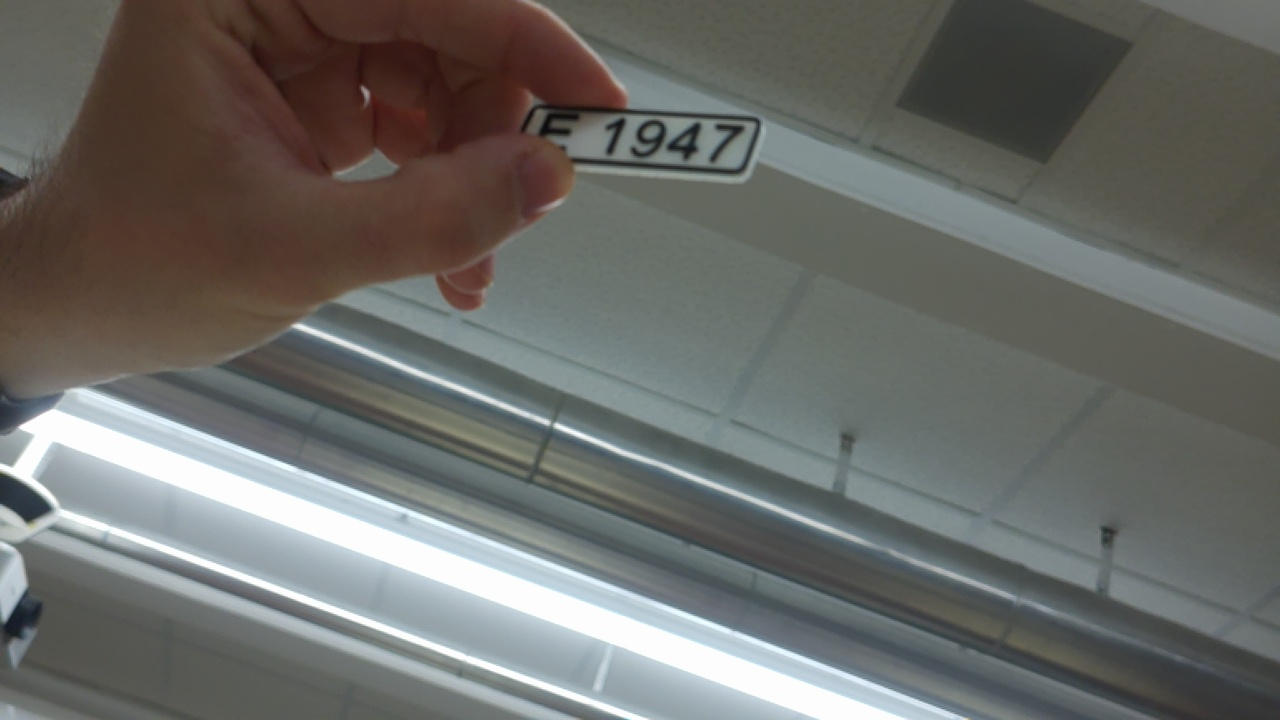license_plate: (514, 93, 768, 194)
